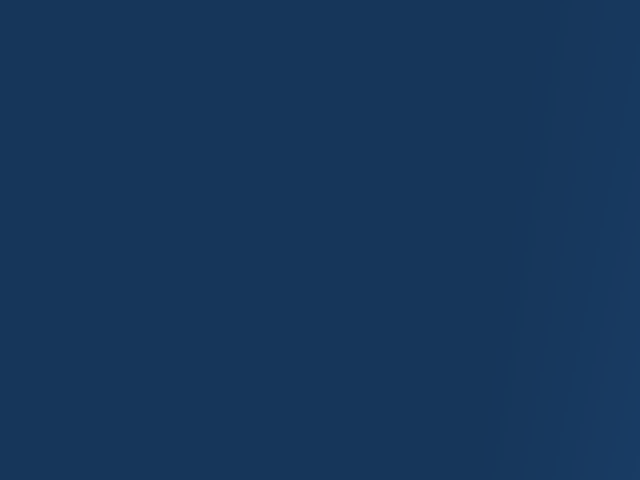obstacle: (271, 169, 322, 191)
puck: (12, 224, 36, 243)
